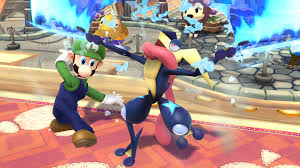greninja: (74, 19, 251, 166)
